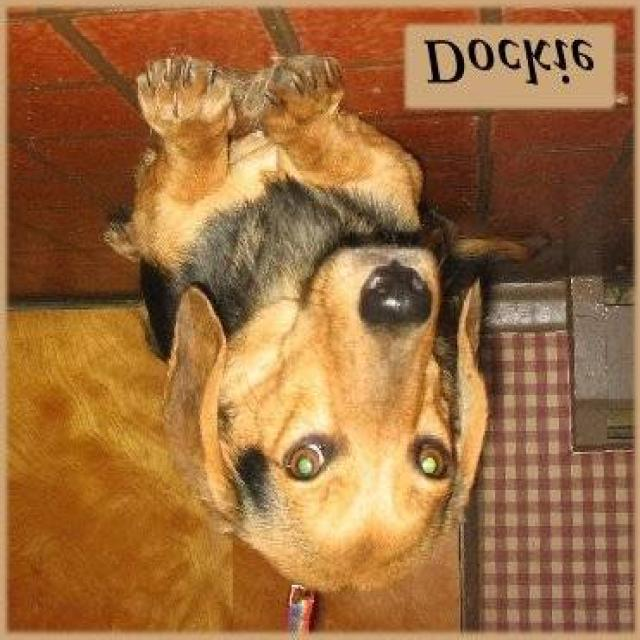dog: (100, 9, 526, 636)
